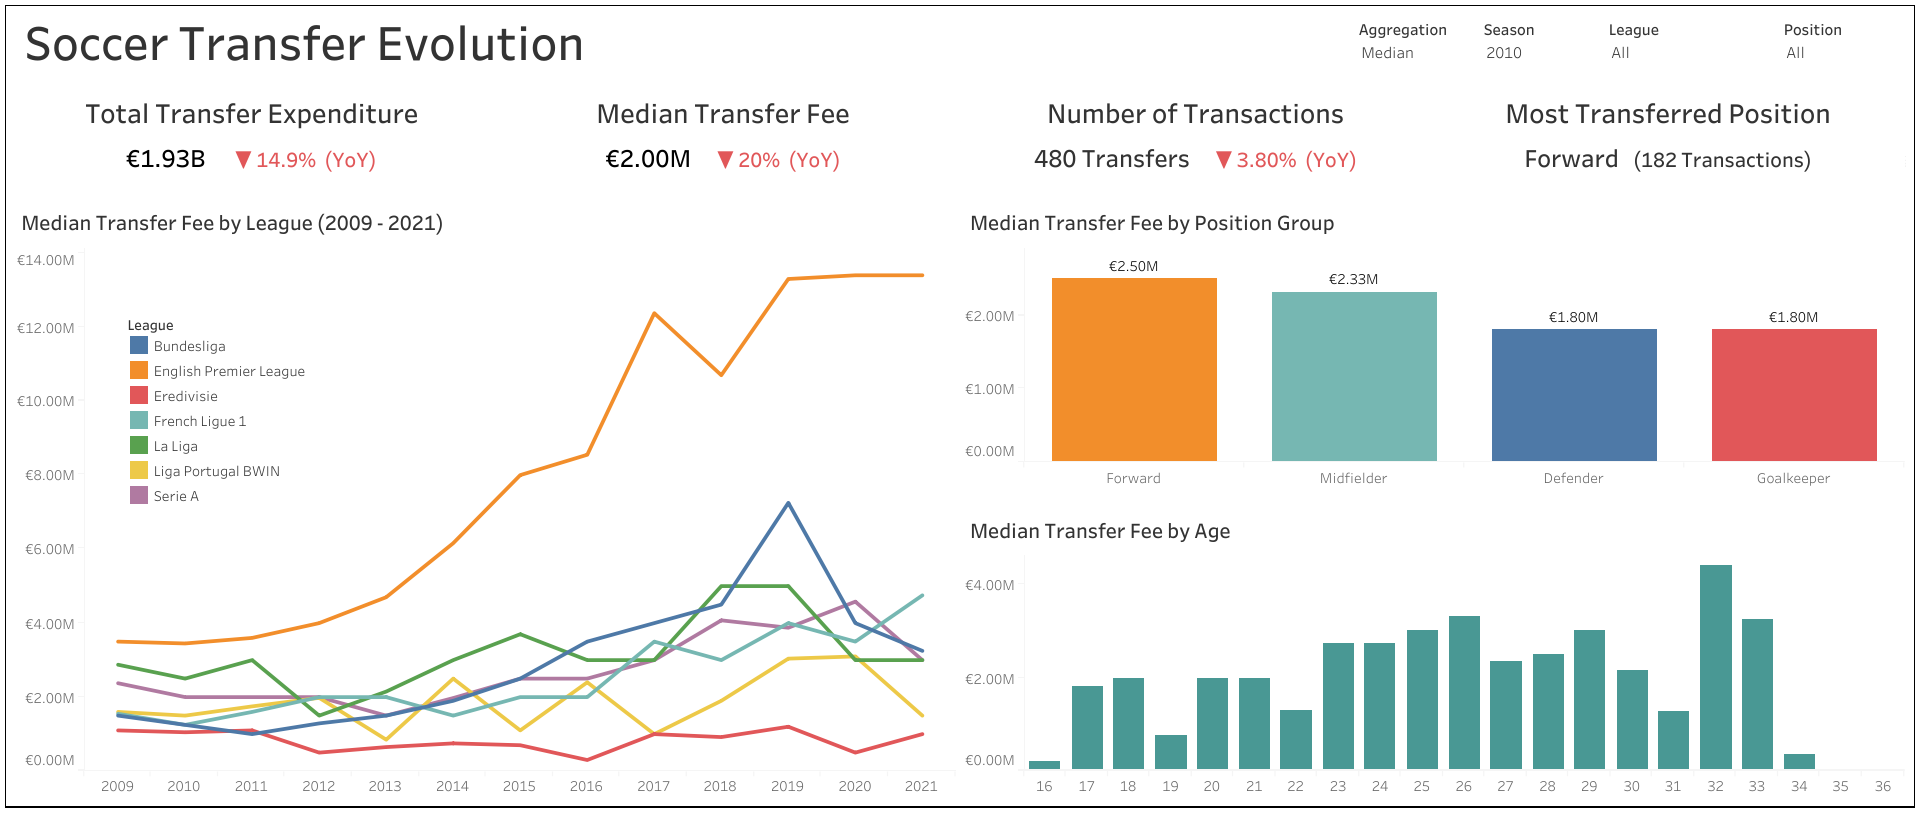

Layout of this report page (visuals, bound fields, positions):
{"tool":"tableau","page":{"name":"Dashboard 1","canvas":[1000,1000],"units":"permille","ordinal":0},"visuals":[{"type":"title","box":[9.9,8.7,645.1,97.6]},{"type":"parameter","param":"[Parameters].[Parameter 4]","box":[655,8.7,76.2,97.6]},{"type":"parameter","param":"[Parameters].[Parameter 1]","box":[731.2,8.7,76.2,97.6]},{"type":"parameter","param":"[Parameters].[Parameter 2]","box":[807.3,8.7,106.6,97.6]},{"type":"parameter","param":"[Parameters].[Parameter 3]","box":[913.9,8.7,76.2,97.6]},{"type":"worksheet","title":"Total Transfer Expenditure","mark":"Text","box":[9.9,120.2,245.1,144.6]},{"type":"worksheet","title":"Mean Transfer Fee","mark":"Automatic","box":[254.8,120.2,245.2,104.5]},{"type":"worksheet","title":"Median Transfer Fee","mark":"Text","box":[255,120.2,245.1,144.6]},{"type":"worksheet","title":"Number of Transactions","mark":"Text","box":[500,120.2,245.1,144.6]},{"type":"worksheet","title":"Most Transferred Position Group","mark":"Text","box":[745.1,120.2,245.1,144.6]},{"type":"worksheet","title":"Mean Transfer Fee by League","mark":"Automatic","rows":["transfer_fee_amnt"],"cols":["month_year"],"box":[9.6,238.7,490.8,738.7]},{"type":"worksheet","title":"Mean Transfer Fee by Position","mark":"Automatic","rows":["Calculation_0014566369492996"],"cols":["position_group"],"box":[503.3,238.7,487.1,369.3]},{"type":"worksheet","title":"Median Transfer Fee by League","mark":"Automatic","rows":["transfer_fee_amnt"],"cols":["month_year"],"box":[9.9,278.8,490.5,698.6]},{"type":"worksheet","title":"Median Transfer Fee by Position","mark":"Automatic","rows":["Calculation_0014566369492996"],"cols":["position_group"],"box":[503.4,278.8,486.7,349.3]},{"type":"legend","title":"Median Transfer Fee by League","param":"[federated.1h4ehbd04c30is15kew6a19eh90q].[none:league:nk]","box":[65.5,385,128,277]},{"type":"worksheet","title":"Mean Transfer Fee by Age","mark":"Automatic","rows":["Transfer Fee - Season, League Parameters (copy)_001401688928"],"cols":["player_age"],"box":[503.3,608,487.1,369.3]},{"type":"worksheet","title":"Median Transfer Fee by Age","mark":"Automatic","rows":["Transfer Fee - Season, League Parameters (copy)_001401688928"],"cols":["player_age"],"box":[503.4,628.1,486.7,349.3]}]}

Visuals, with their boxes on the dashboard's canvas, which has no fixed pixel size, in thousandths of its width and height (x1, y1, x2, y2). These are canvas units, not pixel positions in the 1920x813 screenshot, which may show the page scaled, cropped or inside an application window:
title: bbox(10, 9, 655, 106)
parameter: bbox(655, 9, 731, 106)
parameter: bbox(731, 9, 807, 106)
parameter: bbox(807, 9, 914, 106)
parameter: bbox(914, 9, 990, 106)
"Total Transfer Expenditure" worksheet (Text marks): bbox(10, 120, 255, 265)
"Mean Transfer Fee" worksheet: bbox(255, 120, 500, 225)
"Median Transfer Fee" worksheet (Text marks): bbox(255, 120, 500, 265)
"Number of Transactions" worksheet (Text marks): bbox(500, 120, 745, 265)
"Most Transferred Position Group" worksheet (Text marks): bbox(745, 120, 990, 265)
"Mean Transfer Fee by League" worksheet: bbox(10, 239, 500, 977)
"Mean Transfer Fee by Position" worksheet: bbox(503, 239, 990, 608)
"Median Transfer Fee by League" worksheet: bbox(10, 279, 500, 977)
"Median Transfer Fee by Position" worksheet: bbox(503, 279, 990, 628)
"Median Transfer Fee by League" legend: bbox(66, 385, 194, 662)
"Mean Transfer Fee by Age" worksheet: bbox(503, 608, 990, 977)
"Median Transfer Fee by Age" worksheet: bbox(503, 628, 990, 977)
